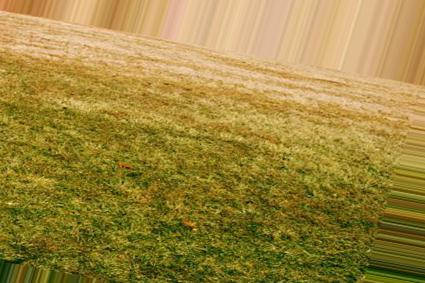patch: (286, 71, 348, 104), (31, 31, 100, 55), (121, 47, 182, 73), (200, 61, 258, 86), (358, 85, 393, 110)
